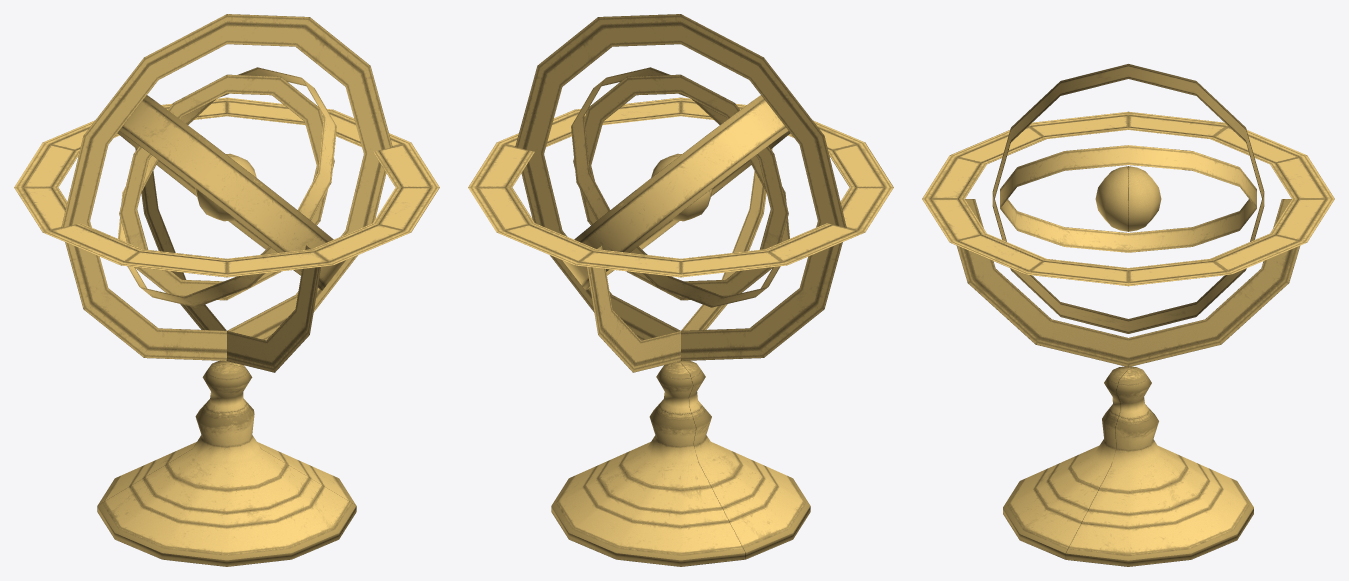
Rendered from PropAstro02.fbx.
3 renders of one model, left to right at view 1: azimuth 30°, elevation 25°; view 2: azimuth 150°, elevation 25°; view 3: azimuth 270°, elevation 25°, orthographic. The views are drawn at different scales.
Parts seen in each view (by area): view 1: PropAstro02; view 2: PropAstro02; view 3: PropAstro02.
Boxes of the visible parts, box(x1,y1,x2,y2) form: PropAstro02: box(14, 14, 439, 566); PropAstro02: box(468, 14, 893, 566); PropAstro02: box(922, 64, 1334, 566).
Size of the model in its own units: 3.69 by 4.76 by 3.69.
1 material, 1 textured.
